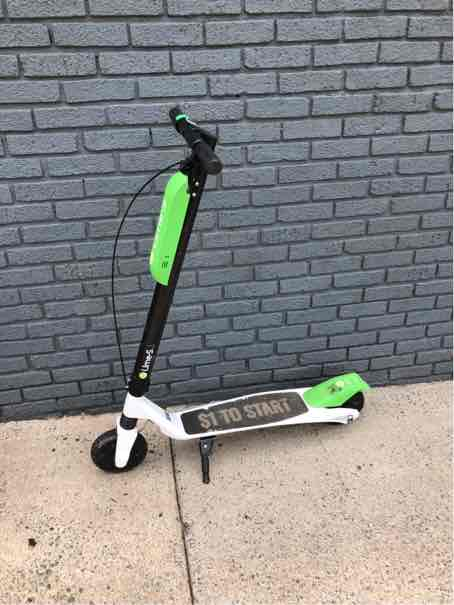scooter: (81, 90, 376, 485)
